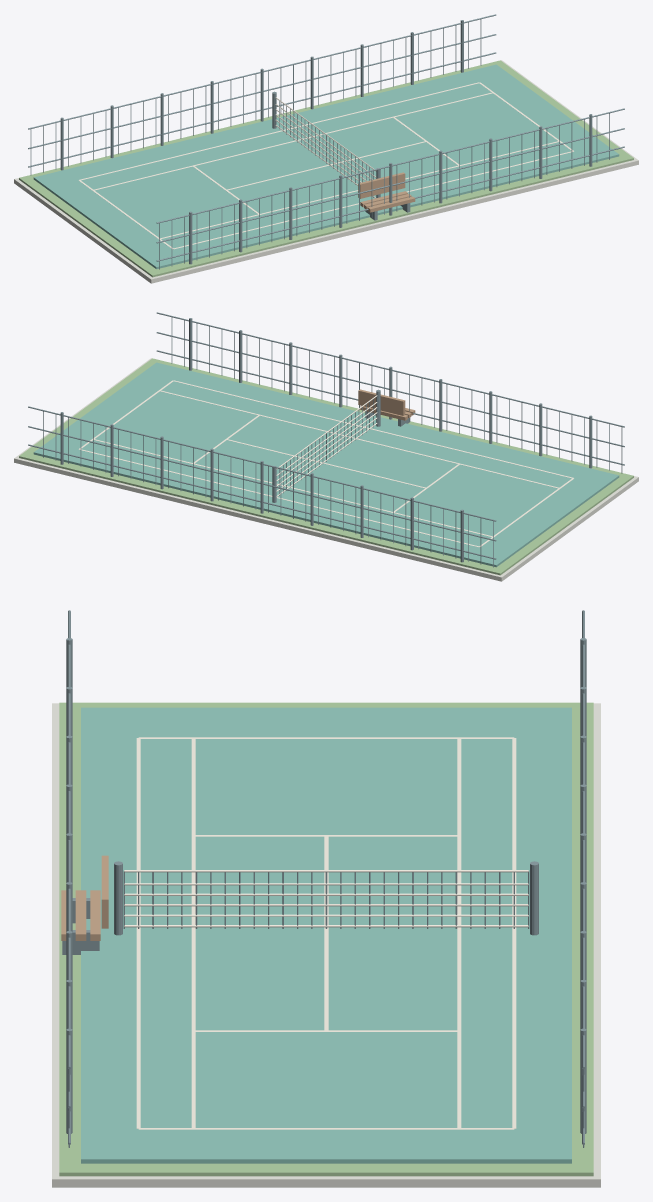
File: remaster_tennis.glb
The picture shows the model from 3 angles, top to bottom: view 1: azimuth 30°, elevation 25°; view 2: azimuth 150°, elevation 25°; view 3: azimuth 270°, elevation 25°; orthographic projection. The views are drawn at different scales.
Visible parts, largest first — view 1: court surface, lot surface.005, lot foundation.005, fence rail.005, fence rail.002, fence rail.004, fence rail.001, fence rail.003, fence rail, bench back.006, painted line.001, painted line.005 (+2 smaller); view 2: court surface, lot surface.005, lot foundation.005, fence rail.002, fence rail.005, fence rail.001, fence rail.003, fence rail.004, fence rail, bench back.006, painted line, painted line.004 (+2 smaller); view 3: court surface, lot surface.005, lot foundation.005, painted line.005, painted line.004, painted line.001, painted line, fence rail.002, fence rail.005, net mesh, net mesh.002, net mesh.004 (+4 smaller).
Boxes of the visible parts, box(x1,y1,x2,y2) form: court surface: box(33, 64, 619, 269); lot surface.005: box(19, 60, 633, 277); lot foundation.005: box(14, 60, 638, 283); fence rail.005: box(28, 14, 496, 129); fence rail.002: box(156, 108, 624, 223); fence rail.004: box(28, 34, 496, 149); fence rail.001: box(156, 128, 624, 243); fence rail.003: box(28, 52, 496, 167); fence rail: box(156, 146, 624, 261); bench back.006: box(358, 172, 405, 198); painted line.001: box(79, 82, 479, 180); painted line.005: box(93, 92, 492, 190); court surface: box(33, 362, 619, 567); lot surface.005: box(19, 358, 633, 575); lot foundation.005: box(14, 358, 638, 581); fence rail.002: box(156, 312, 624, 427); fence rail.005: box(28, 406, 496, 521); fence rail.001: box(156, 332, 624, 447); fence rail.003: box(28, 444, 496, 559); fence rail.004: box(28, 426, 496, 541); fence rail: box(156, 350, 624, 465); bench back.006: box(358, 389, 405, 415); painted line: box(173, 380, 573, 478); painted line.004: box(160, 390, 559, 488); court surface: box(81, 707, 571, 1163); lot surface.005: box(59, 702, 593, 1176); lot foundation.005: box(52, 703, 600, 1187); painted line.005: box(457, 738, 461, 1128); painted line.004: box(191, 739, 195, 1128); painted line.001: box(512, 738, 516, 1128); painted line: box(136, 738, 140, 1128); fence rail.002: box(68, 610, 70, 1069); fence rail.005: box(582, 610, 584, 1069); net mesh: box(124, 925, 528, 927); net mesh.002: box(124, 904, 528, 906); net mesh.004: box(124, 883, 528, 885).
Size of the model in its own units: 19.5 by 2.2 by 9.5.
